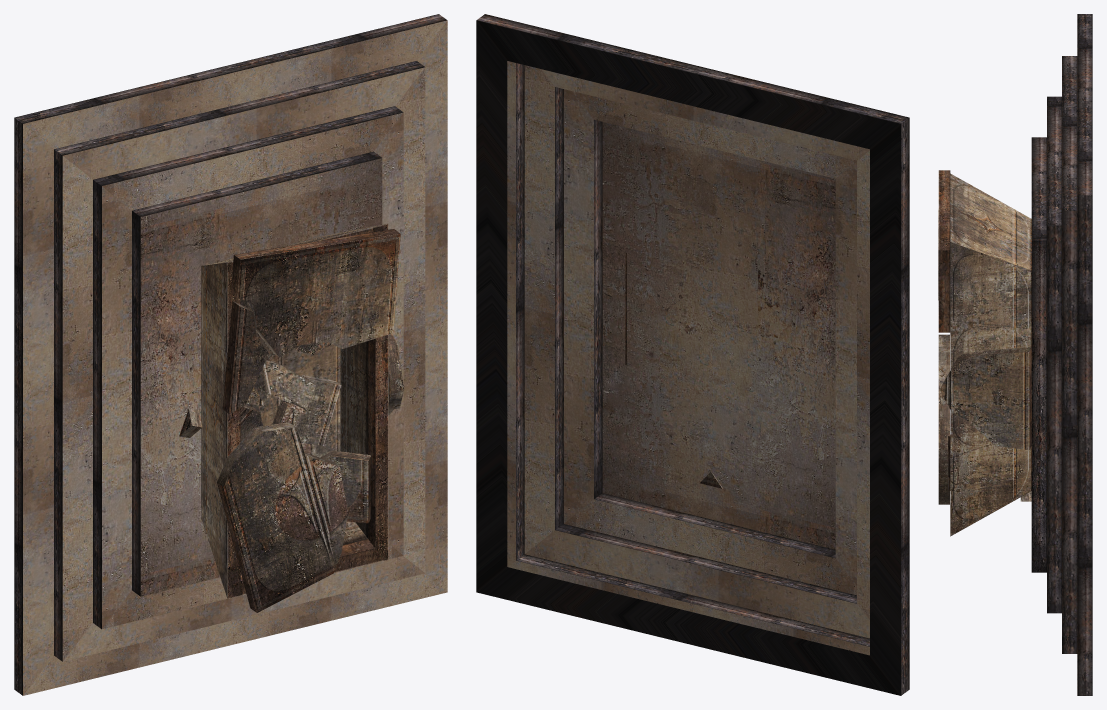
File: rv_mod_cit_coffin.obj
3 views of the same model, side by side, from view 1: azimuth 30°, elevation 25°; view 2: azimuth 150°, elevation 25°; view 3: azimuth 270°, elevation 25° (orthographic). The views are drawn at different scales.
Visible parts, largest first — view 1: rv_mod_cit_coffin; view 2: rv_mod_cit_coffin; view 3: rv_mod_cit_coffin.
Boxes of the visible parts, x1,y1,x2,y2 form: rv_mod_cit_coffin: (14,14,447,695); rv_mod_cit_coffin: (476,14,909,695); rv_mod_cit_coffin: (938,14,1092,695).
Bounding box in the file's own units: 7.02 × 9.04 × 2.53.
2 materials, 2 textured.
